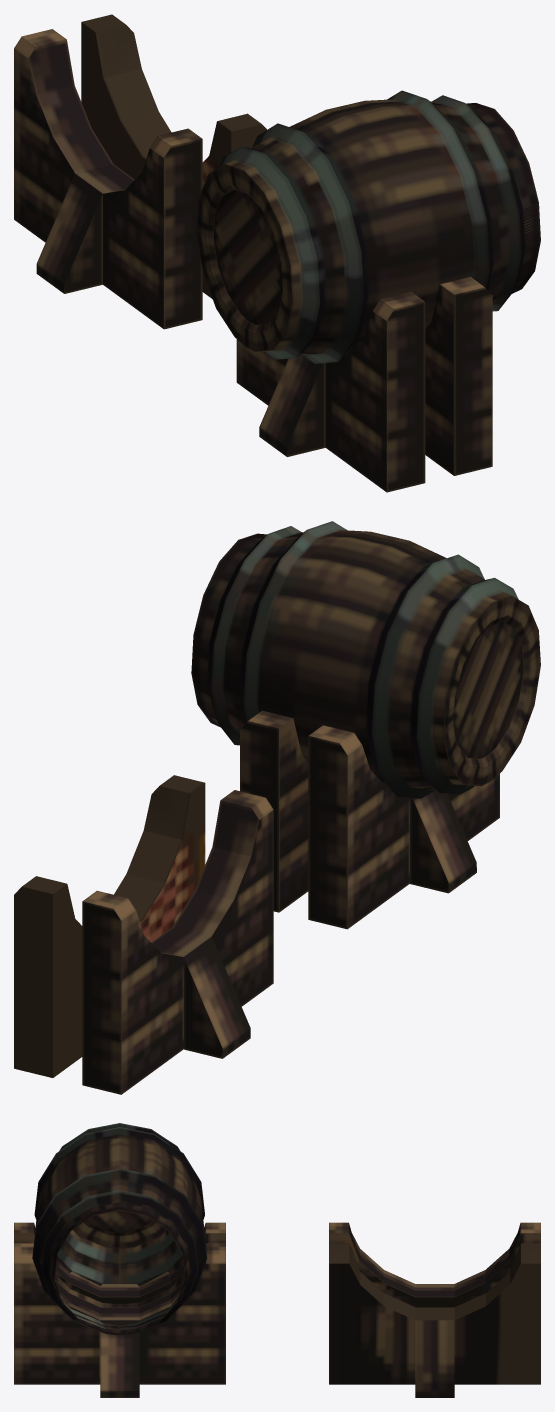
The model's file is EnvObjMD_Barrel_A_Stand.FBX.
The picture shows the model from 3 angles, top to bottom: view 1: azimuth 30°, elevation 25°; view 2: azimuth 150°, elevation 25°; view 3: azimuth 270°, elevation 25°; orthographic projection. The views are drawn at different scales.
Parts seen in each view (by area): view 1: EnvObjMD_Barrel_A_Stand, EnvObjMD_Barrel_StandOnly; view 2: EnvObjMD_Barrel_A_Stand, EnvObjMD_Barrel_StandOnly; view 3: EnvObjMD_Barrel_A_Stand, EnvObjMD_Barrel_StandOnly.
Boxes of the visible parts, bbox=[...] form: EnvObjMD_Barrel_A_Stand: bbox=[196, 90, 540, 492]; EnvObjMD_Barrel_StandOnly: bbox=[14, 14, 266, 329]; EnvObjMD_Barrel_A_Stand: bbox=[191, 521, 540, 929]; EnvObjMD_Barrel_StandOnly: bbox=[14, 775, 273, 1094]; EnvObjMD_Barrel_A_Stand: bbox=[14, 1123, 225, 1397]; EnvObjMD_Barrel_StandOnly: bbox=[329, 1222, 540, 1397].
Size of the model in its own units: 130 by 154 by 336.
